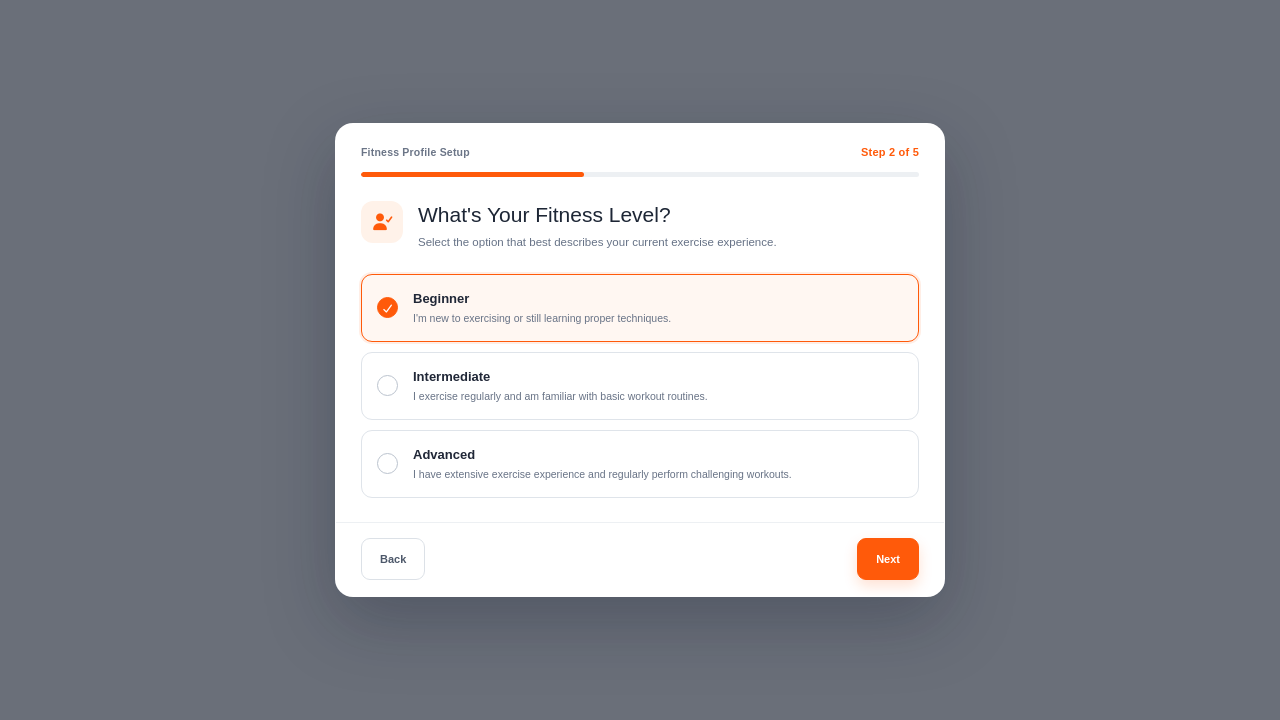
Test: uses the sign-up age as read-only and skips affected areas when limitations are No
Earlier steps of the test are not shown.
Later steps or results of the test are not shown.
Step 1. Click the button "Next" → [888, 559], box top-left (857, 538), bottom-right (919, 580)
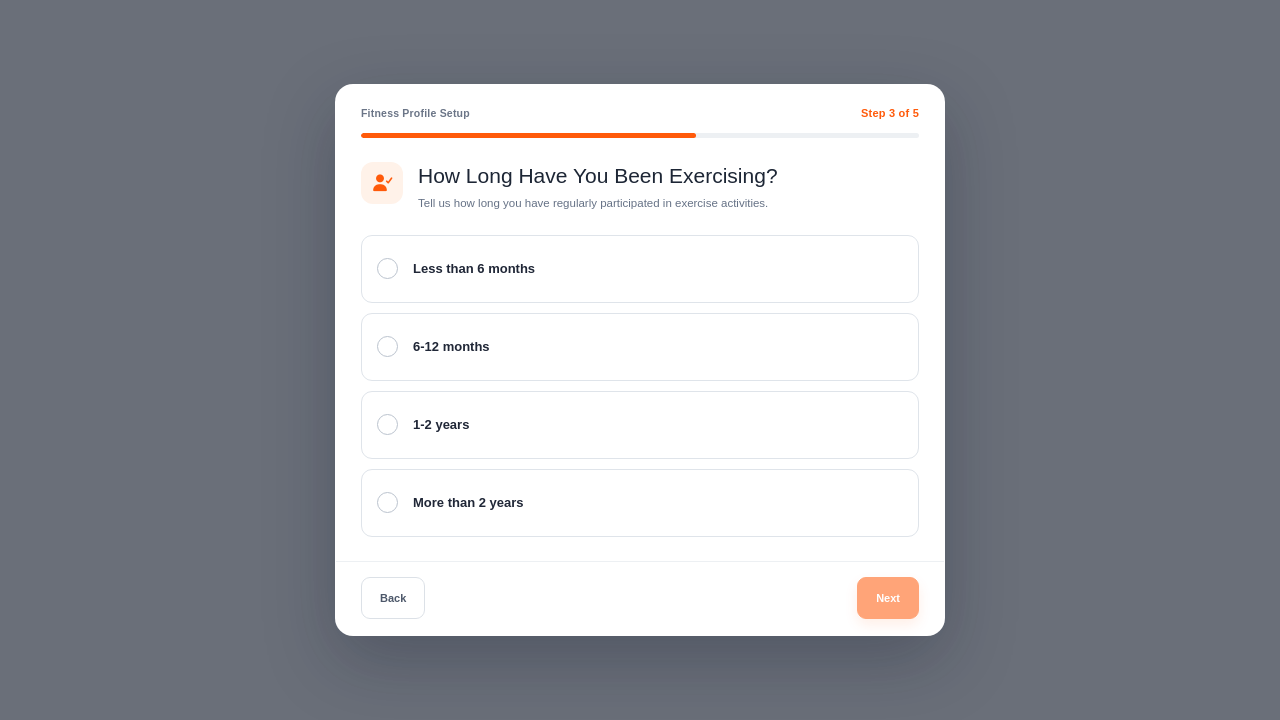
Step 2. Click the radio button labelled "Less than 6 months" → [474, 269], box top-left (361, 235), bottom-right (919, 303)
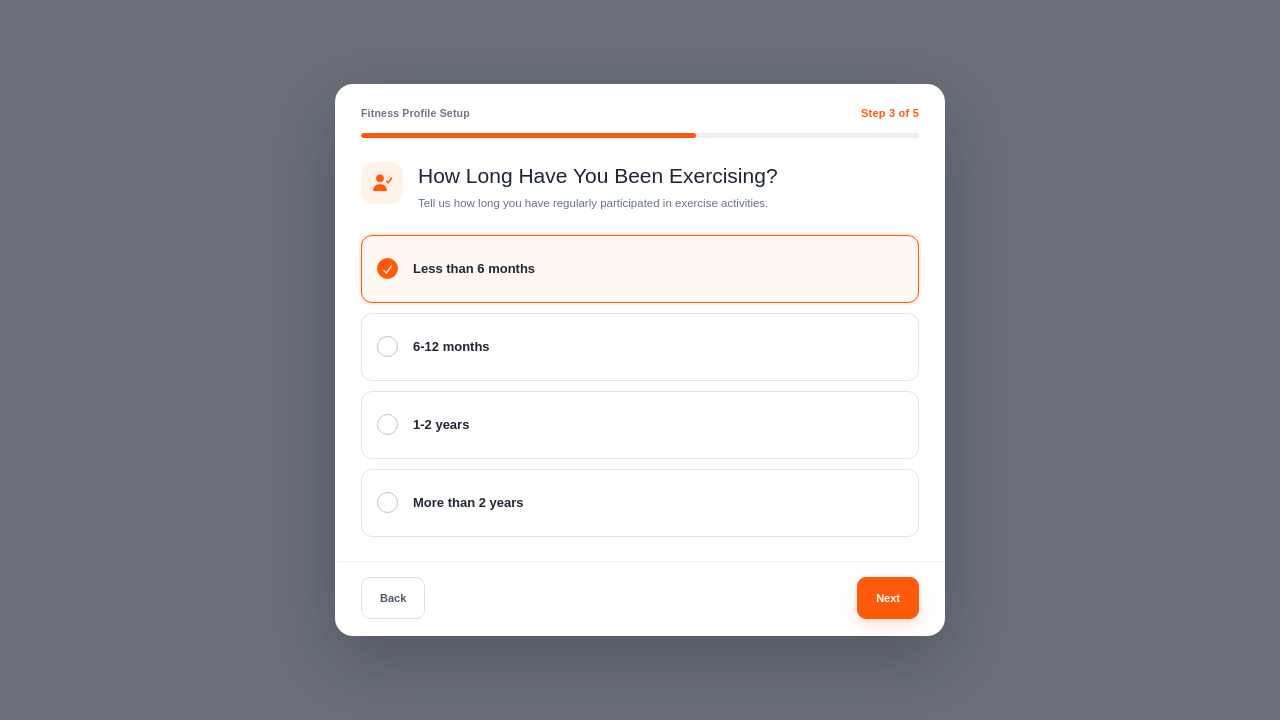
Step 3. Click the button "Next" → [888, 598], box top-left (857, 577), bottom-right (919, 619)
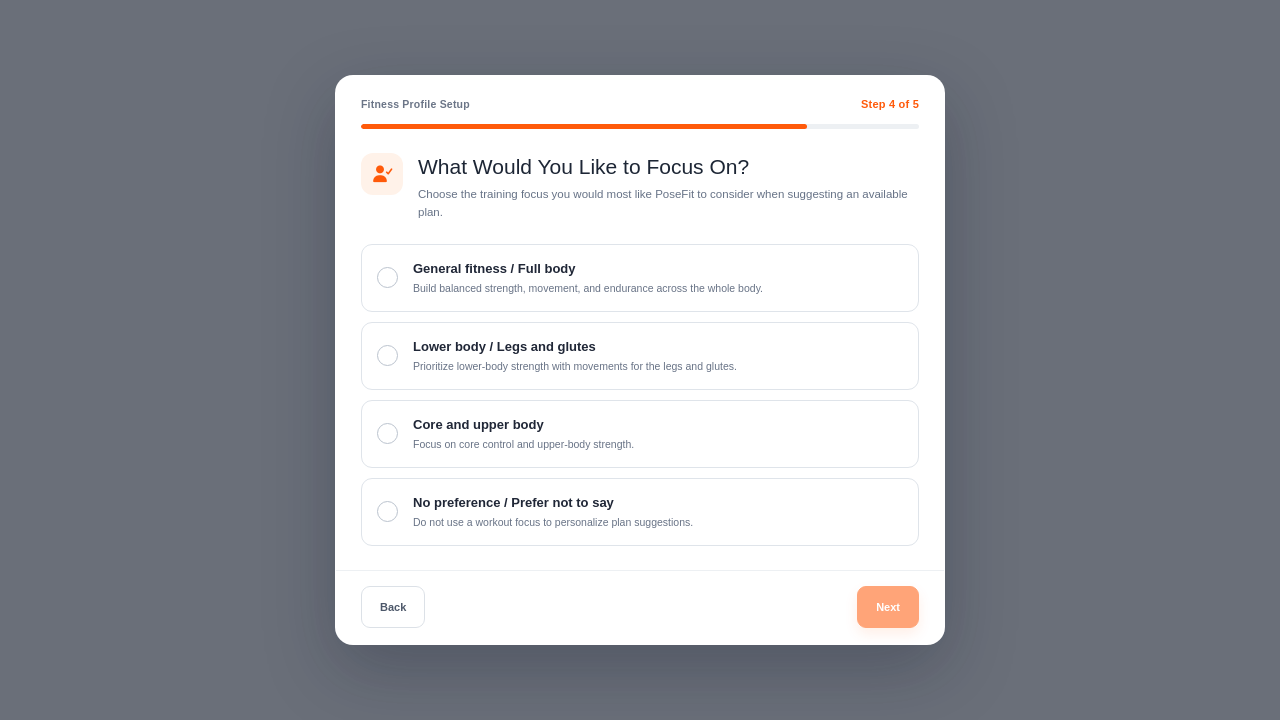
Step 4. Click the radio button labelled "General fitness / Full body" → [494, 268], box top-left (361, 244), bottom-right (919, 312)
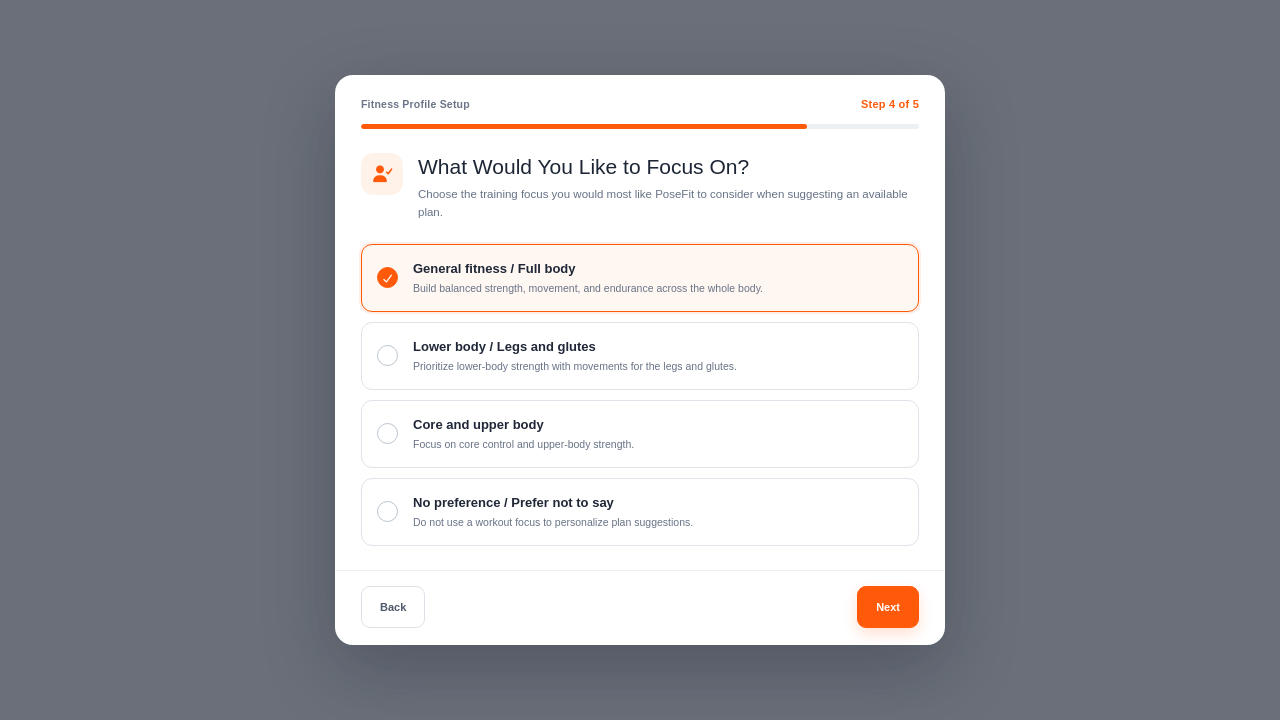
Step 5. Click the button "Next" → [888, 607], box top-left (857, 586), bottom-right (919, 628)
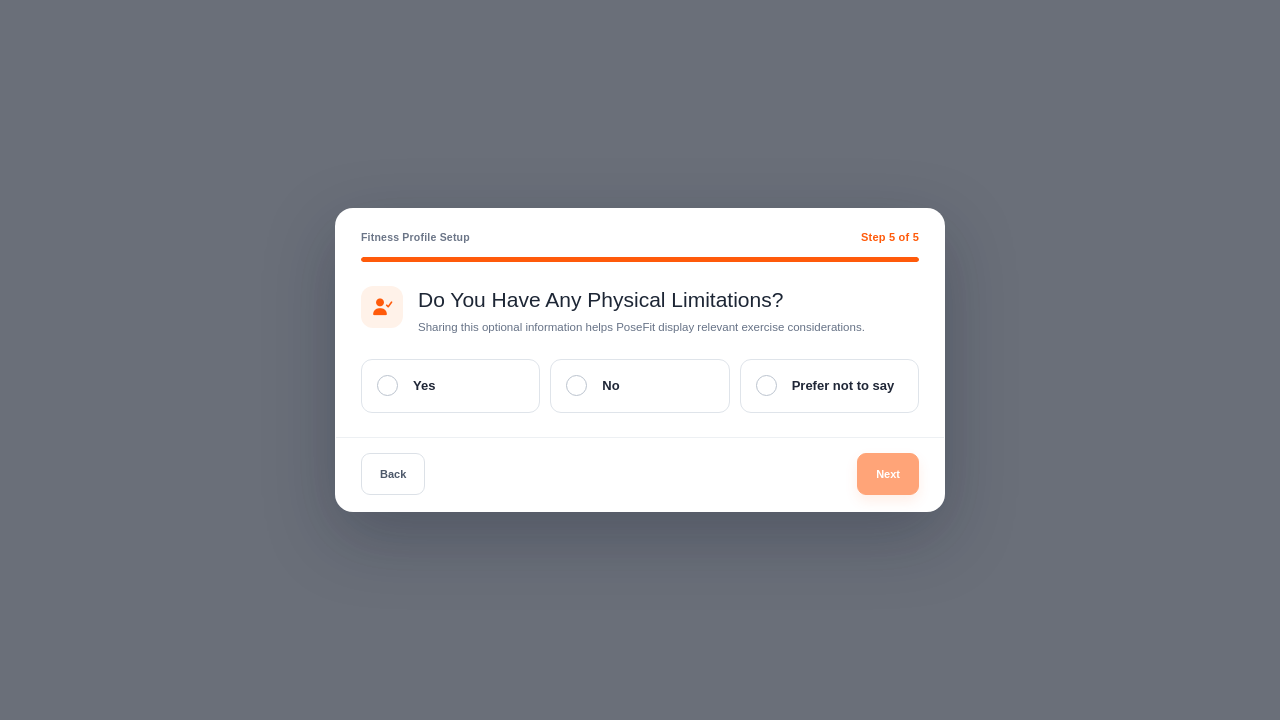
Step 6. Click the radio button labelled "No" → [640, 386], box top-left (550, 359), bottom-right (730, 413)
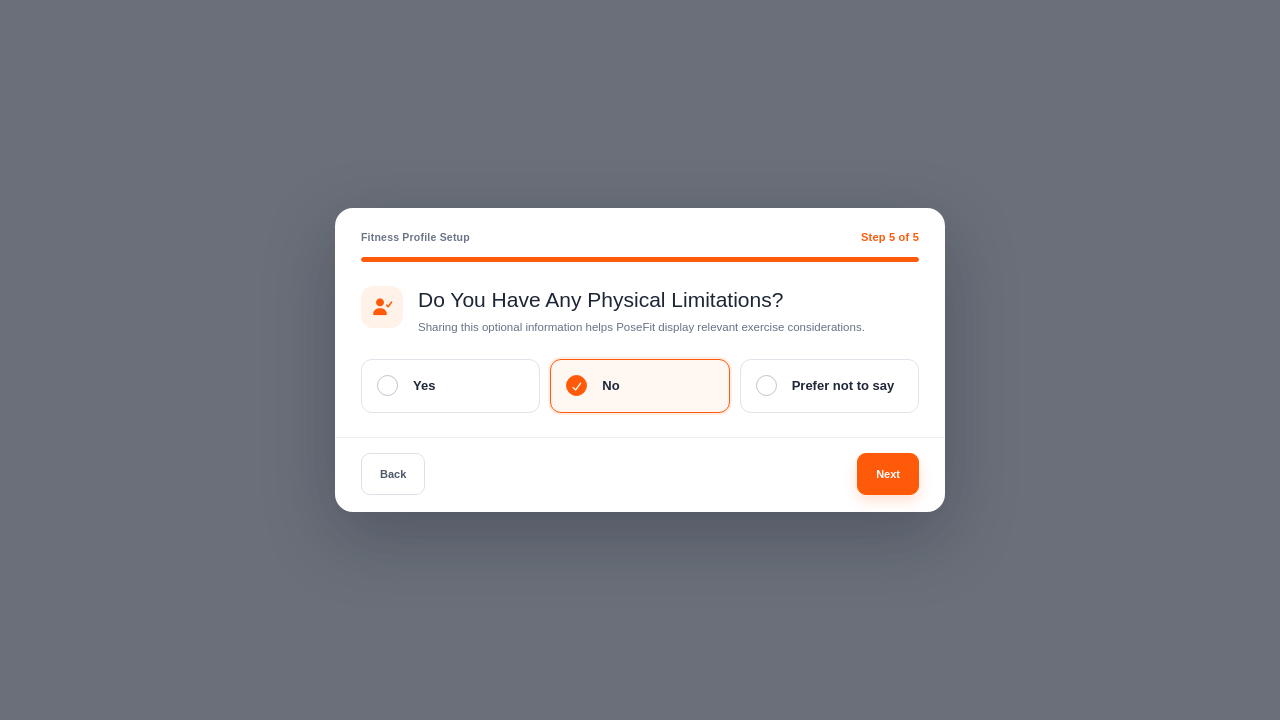
Result: the text "Step 5 of 5" is shown at top-left (861, 229), bottom-right (919, 246)
